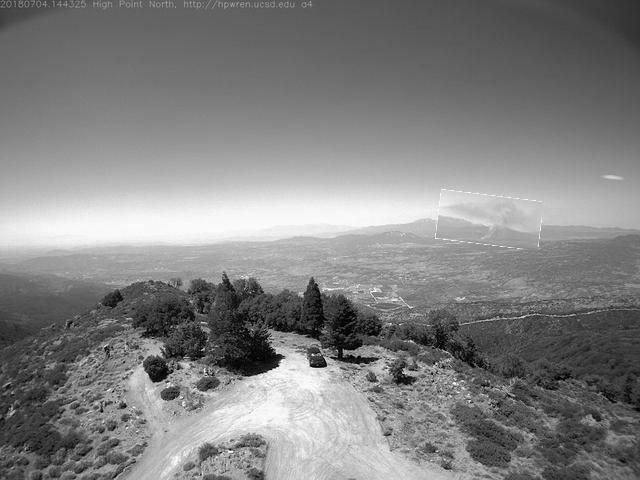smoke: (438, 193, 543, 248)
